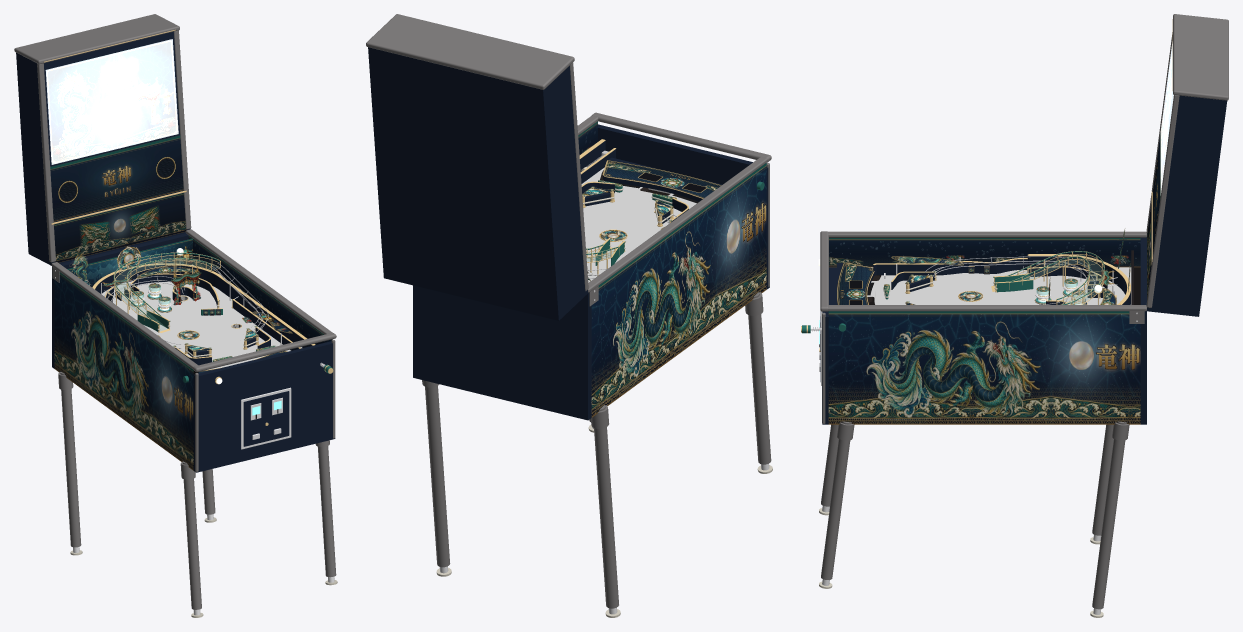
Rendered from ryujin.glb.
The picture shows the model from 3 angles, left to right: view 1: azimuth 30°, elevation 25°; view 2: azimuth 150°, elevation 25°; view 3: azimuth 270°, elevation 25°; orthographic projection. The views are drawn at different scales.
Visible parts, largest first — view 1: cabinet_side_-1, backglass, cabinet_front, speakerpanel, backbox_body, playfield, neckpanel, backbox_trim, innerwall_1, coindoor_panel, leg.001, wall_outer (+16 smaller); view 2: backbox_body, cabinet_side_-1, cabinet_back, backbox_trim, cabinet_front, playfield, leg.001, leg.003, leg, siderail_-1, apron, lockdown (+2 smaller); view 3: cabinet_side_1, backbox_body, innerwall_-1, playfield, backbox_trim, siderail_-1, siderail_1, leg.003, leg.002, wall_fillL, backbox, apron (+8 smaller).
Boxes of the visible parts, left/top/right/bottom form: cabinet_side_-1: left=54, top=272, right=198, bottom=470; backglass: left=45, top=39, right=178, bottom=164; cabinet_front: left=193, top=341, right=335, bottom=472; speakerpanel: left=50, top=135, right=183, bottom=221; backbox_body: left=16, top=31, right=190, bottom=265; playfield: left=102, top=264, right=290, bottom=369; neckpanel: left=54, top=193, right=187, bottom=262; backbox_trim: left=14, top=14, right=179, bottom=64; innerwall_1: left=188, top=235, right=327, bottom=344; coindoor_panel: left=243, top=391, right=289, bottom=446; leg.001: left=60, top=371, right=81, bottom=547; wall_outer: left=95, top=265, right=312, bottom=347; backbox_body: left=368, top=47, right=587, bottom=320; cabinet_side_-1: left=591, top=163, right=766, bottom=417; cabinet_back: left=413, top=285, right=591, bottom=420; backbox_trim: left=366, top=14, right=574, bottom=89; cabinet_front: left=598, top=124, right=769, bottom=289; playfield: left=581, top=167, right=696, bottom=282; leg.001: left=594, top=405, right=618, bottom=608; leg.003: left=425, top=386, right=450, bottom=567; leg: left=748, top=292, right=771, bottom=464; siderail_-1: left=588, top=157, right=767, bottom=292; apron: left=603, top=160, right=721, bottom=198; lockdown: left=592, top=112, right=771, bottom=162; cabinet_side_1: left=828, top=311, right=1140, bottom=424; backbox_body: left=1147, top=95, right=1227, bottom=316; innerwall_-1: left=829, top=238, right=1140, bottom=267; playfield: left=867, top=267, right=1131, bottom=304; backbox_trim: left=1173, top=14, right=1228, bottom=100; siderail_-1: left=828, top=231, right=1146, bottom=237; siderail_1: left=827, top=305, right=1146, bottom=311; leg.003: left=1092, top=421, right=1126, bottom=609; leg.002: left=821, top=421, right=851, bottom=579; wall_fillL: left=873, top=259, right=1027, bottom=275; backbox: left=1146, top=95, right=1179, bottom=307; apron: left=837, top=262, right=873, bottom=304.
Size of the model in its own units: 0.615 by 1.88 by 1.38.
Materials: 52 (28 with a texture image).
